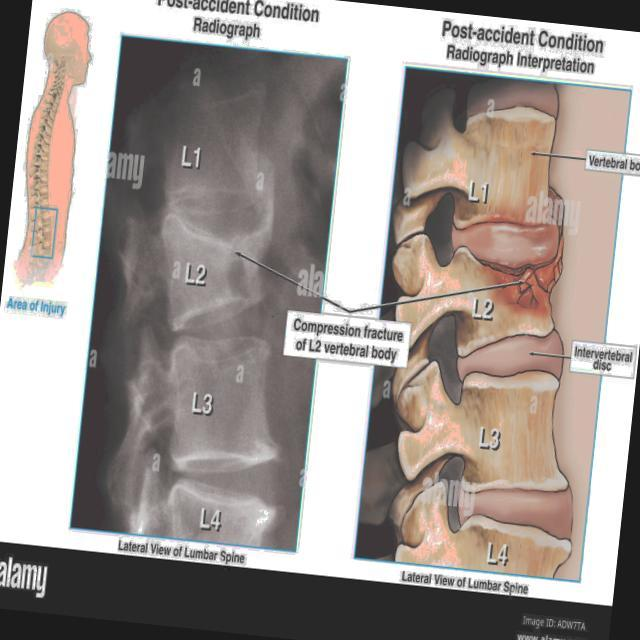Compression-Crush Fracutre: (159, 216, 273, 314), (495, 254, 562, 309)
